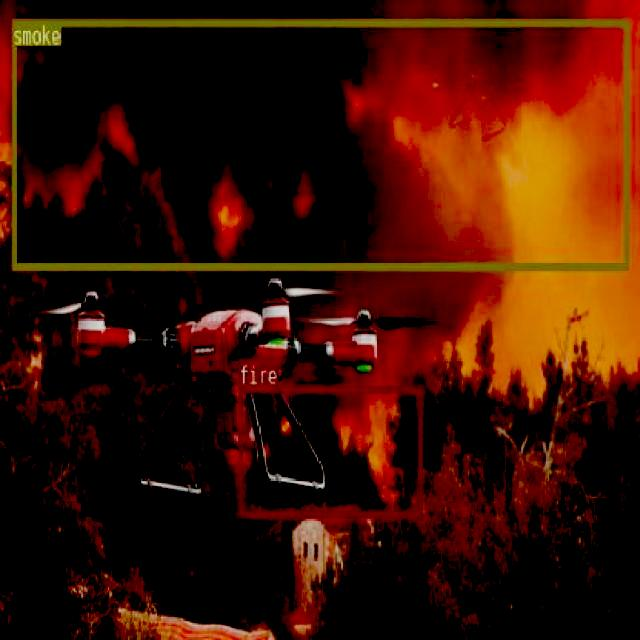fire: (236, 384, 422, 516)
smoke: (9, 18, 628, 270)
